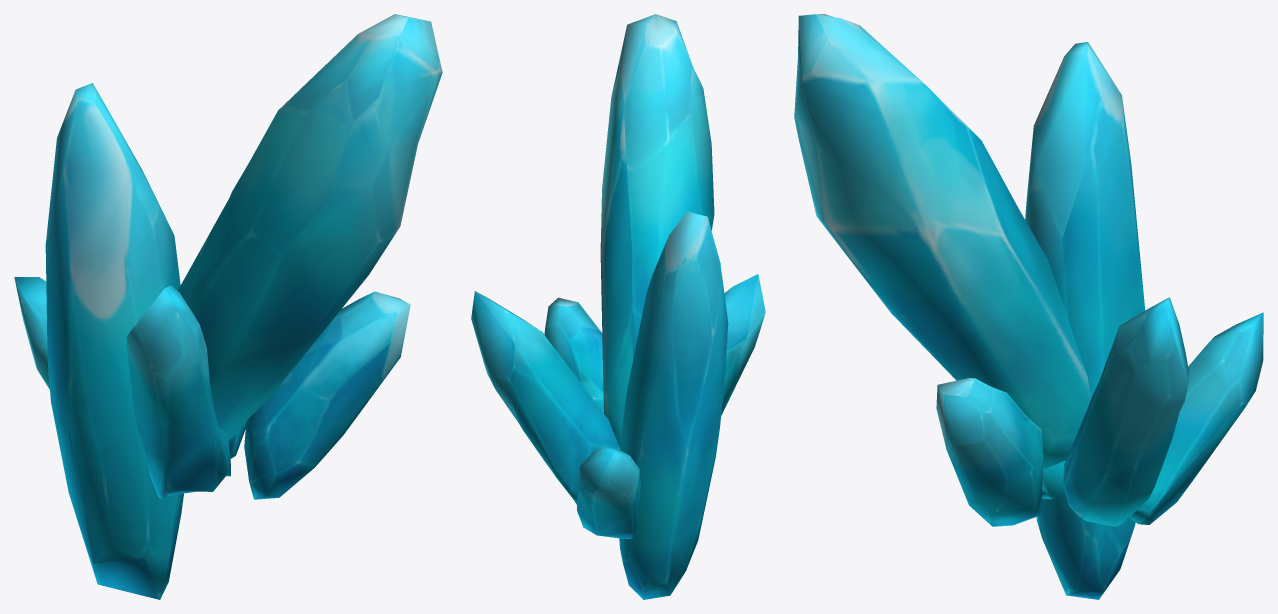
File: Ice_crystal_02.fbx
3 views of the same model, side by side, from view 1: azimuth 30°, elevation 25°; view 2: azimuth 150°, elevation 25°; view 3: azimuth 270°, elevation 25° (orthographic). The views are drawn at different scales.
Parts seen in each view (by area): view 1: Ice_crystal_02; view 2: Ice_crystal_02; view 3: Ice_crystal_02.
Part boxes in pixels (bbox=[...]): Ice_crystal_02: bbox=[14, 14, 442, 599]; Ice_crystal_02: bbox=[471, 14, 765, 599]; Ice_crystal_02: bbox=[794, 14, 1263, 599].
Bounding box in the file's own units: 124 × 268 × 176.
